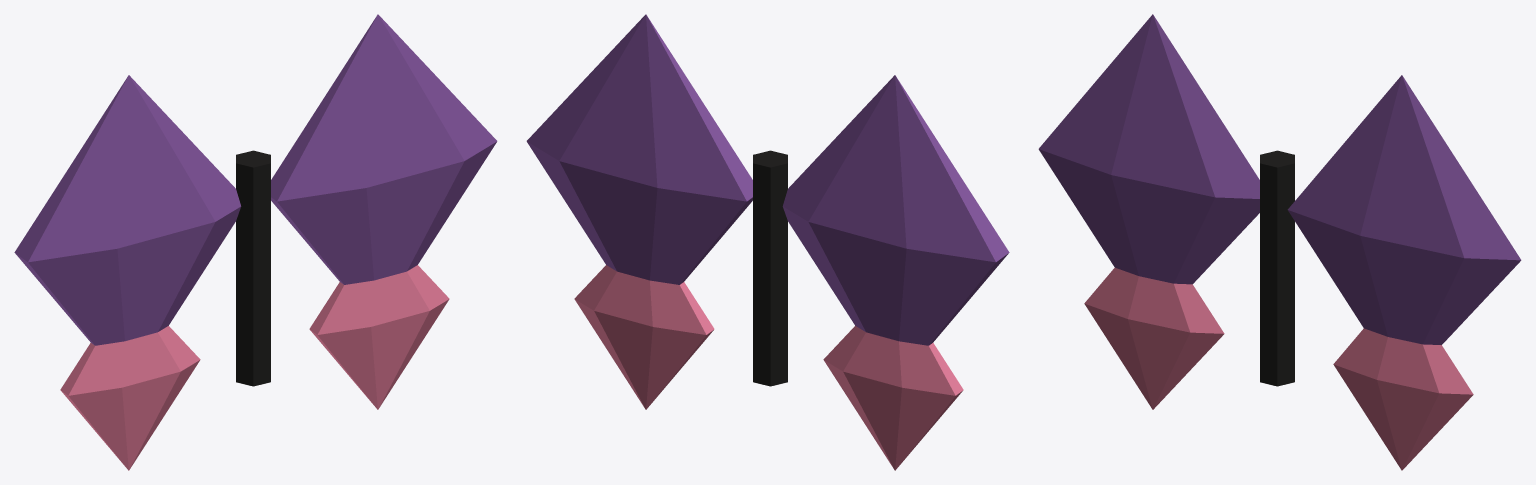
Rendered from butterfly.obj.
The picture shows the model from 3 angles, left to right: view 1: azimuth 30°, elevation 25°; view 2: azimuth 150°, elevation 25°; view 3: azimuth 330°, elevation 25°; orthographic projection.
Bounding box in the file's own units: 0.9562 × 0.76 × 0.1053.
3 materials, 3 textured.
